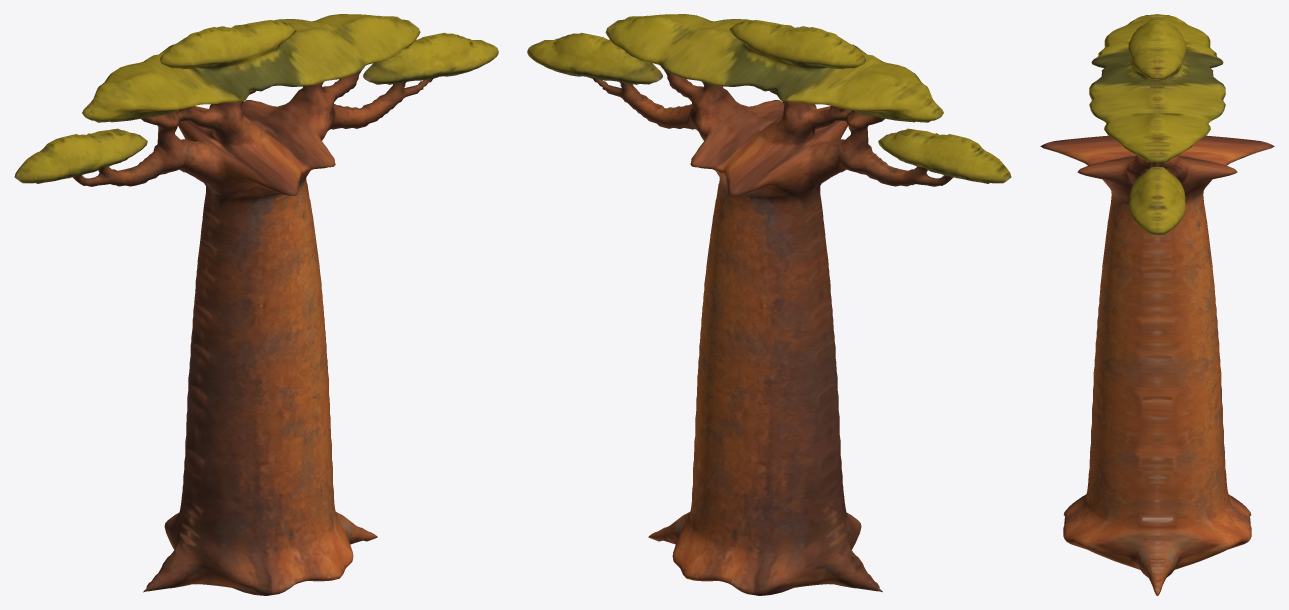
Rendered from 25_trees_d_r01_c00.glb.
The picture shows the model from 3 angles, left to right: view 1: azimuth 30°, elevation 25°; view 2: azimuth 150°, elevation 25°; view 3: azimuth 270°, elevation 25°; orthographic projection. The views are drawn at different scales.
Parts seen in each view (by area): view 1: 25_trees_d_r01_c00; view 2: 25_trees_d_r01_c00; view 3: 25_trees_d_r01_c00.
Part boxes in pixels (x1=…): 25_trees_d_r01_c00: x1=14, y1=14, x2=498, y2=595; 25_trees_d_r01_c00: x1=527, y1=14, x2=1011, y2=595; 25_trees_d_r01_c00: x1=1040, y1=14, x2=1274, y2=595.
Size of the model in its own units: 5.48 by 6 by 2.56.
1 material, 1 textured.
